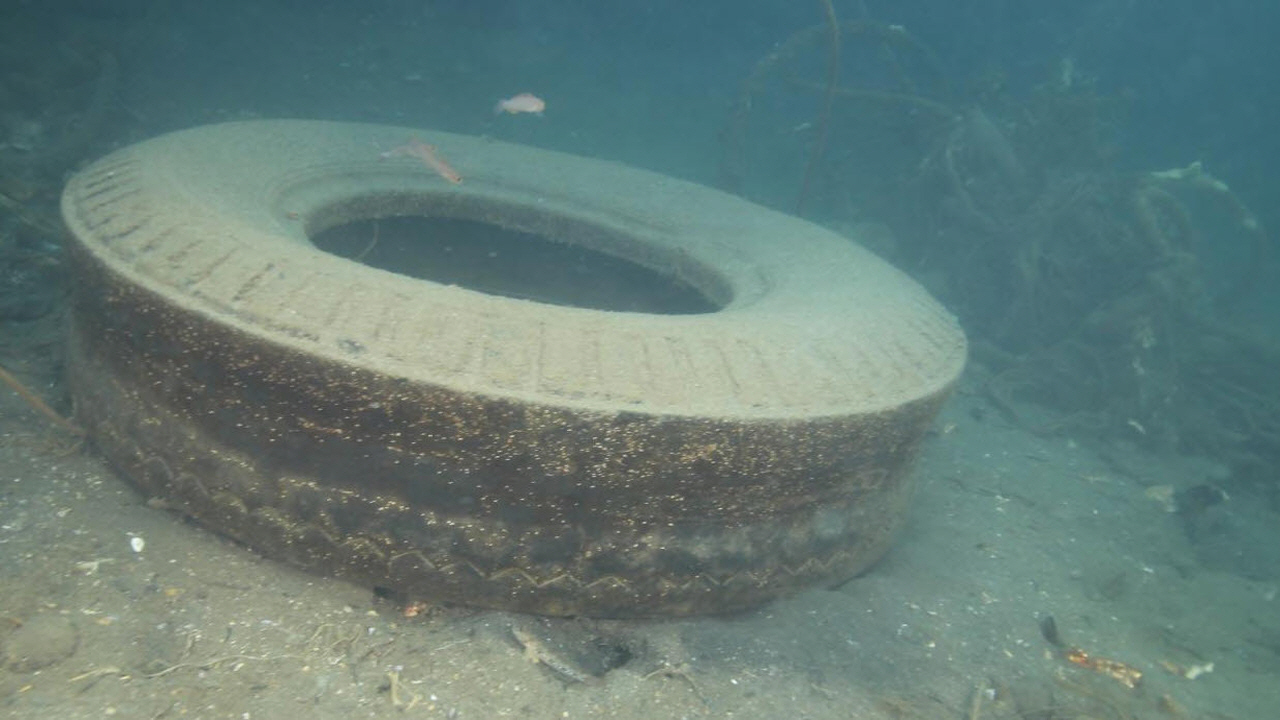tire: (59, 115, 968, 619)
